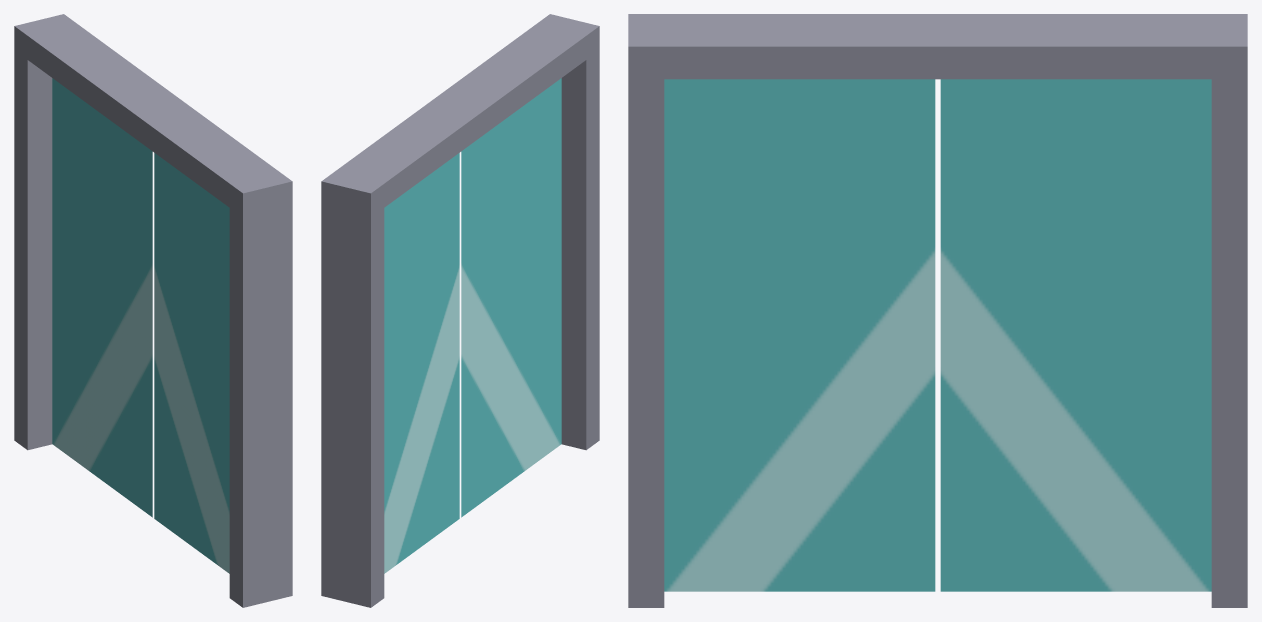
File: DoorandFrame.fbx
The picture shows the model from 3 angles, left to right: view 1: azimuth 30°, elevation 25°; view 2: azimuth 150°, elevation 25°; view 3: azimuth 270°, elevation 25°; orthographic projection. The views are drawn at different scales.
Visible parts, largest first — view 1: DoorFrame, Door L, Door R; view 2: DoorFrame, Door R, Door L; view 3: Door R, Door L, DoorFrame.
Boxes of the visible parts, left/top/right/bottom form: DoorFrame: left=14, top=14, right=292, bottom=607; Door L: left=52, top=78, right=152, bottom=517; Door R: left=154, top=153, right=229, bottom=573; DoorFrame: left=321, top=14, right=599, bottom=607; Door R: left=461, top=78, right=561, bottom=517; Door L: left=384, top=153, right=459, bottom=573; Door R: left=664, top=79, right=935, bottom=591; Door L: left=940, top=79, right=1211, bottom=591; DoorFrame: left=628, top=14, right=1247, bottom=607.
Bounding box in the file's own units: 50 × 400 × 400.
Materials: 2 (2 with a texture image).
